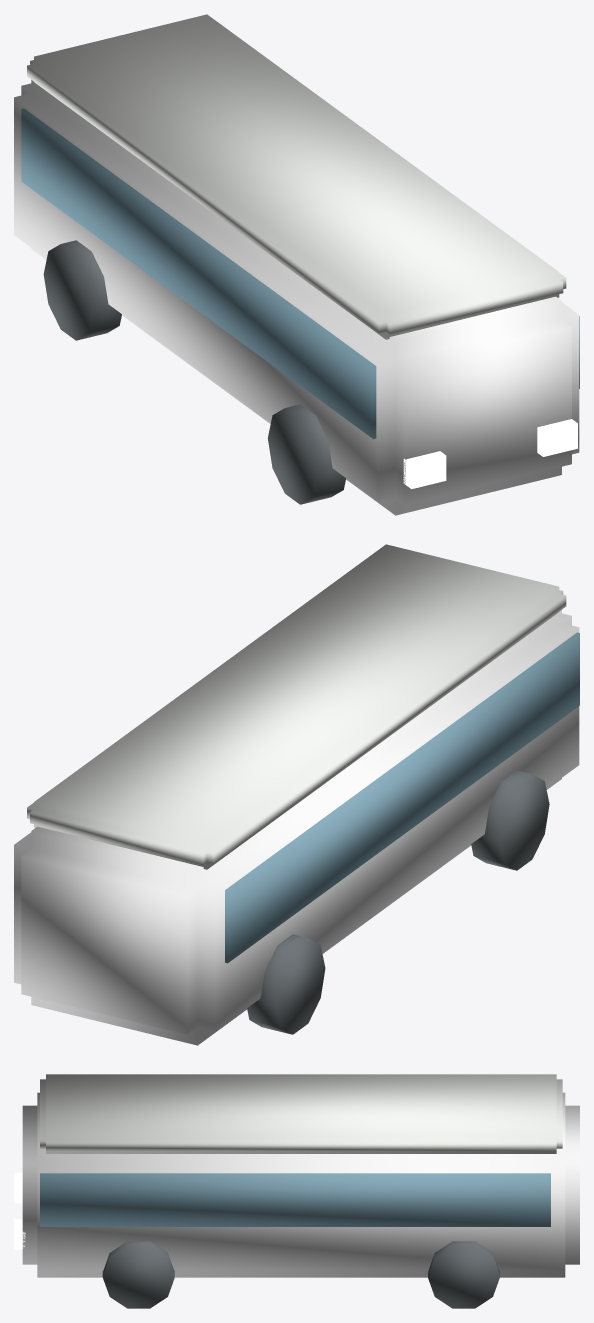
File: city-bus.glb
The picture shows the model from 3 angles, top to bottom: view 1: azimuth 30°, elevation 25°; view 2: azimuth 150°, elevation 25°; view 3: azimuth 270°, elevation 25°; orthographic projection. The views are drawn at different scales.
Parts seen in each view (by area): view 1: CityBus; view 2: CityBus; view 3: CityBus.
Part boxes in pixels (bbox=[...]): CityBus: bbox=[14, 14, 579, 515]; CityBus: bbox=[14, 544, 579, 1045]; CityBus: bbox=[14, 1074, 579, 1308].
Bounding box in the file's own units: 0.335 × 0.3095 × 0.975.
